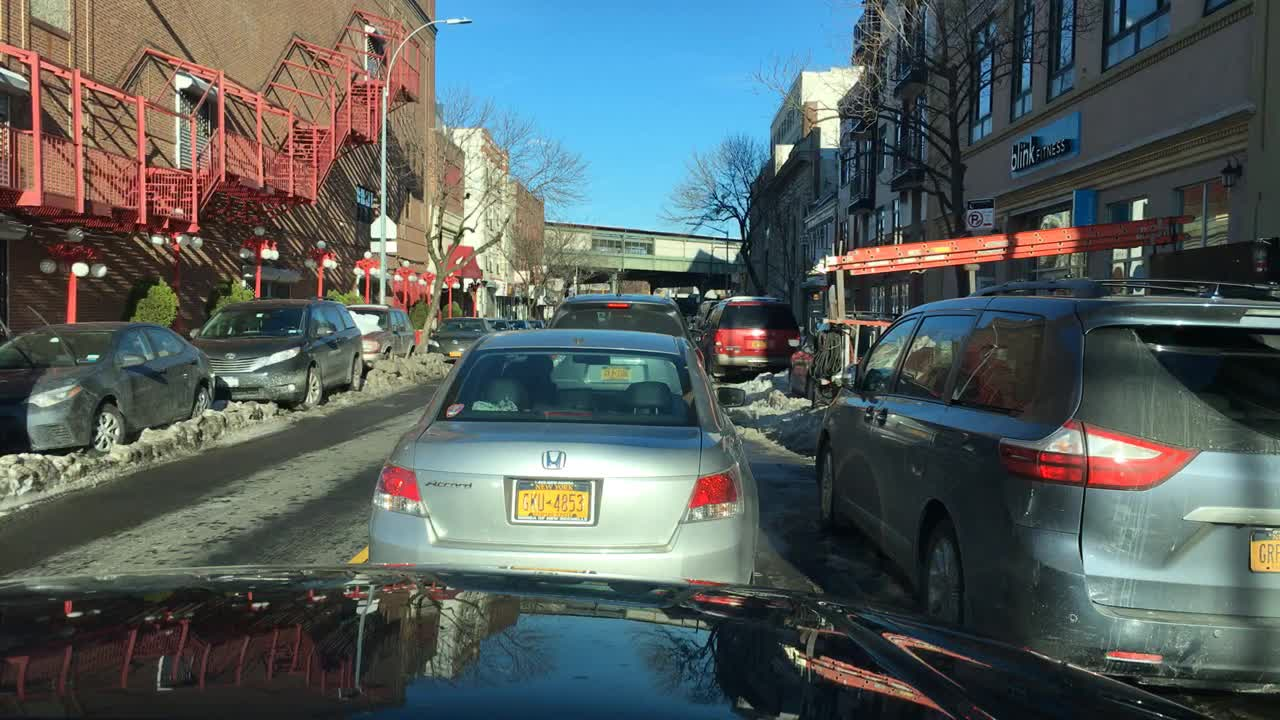car: (812, 286, 1276, 699), (363, 330, 760, 585), (0, 321, 219, 462), (190, 296, 367, 410), (544, 294, 707, 367), (783, 318, 895, 397), (693, 298, 802, 376), (345, 299, 415, 370), (427, 312, 485, 362), (485, 313, 513, 335), (526, 313, 547, 329), (511, 320, 529, 331)
traffic sign: (963, 198, 994, 230), (369, 213, 396, 236), (367, 242, 398, 253)
